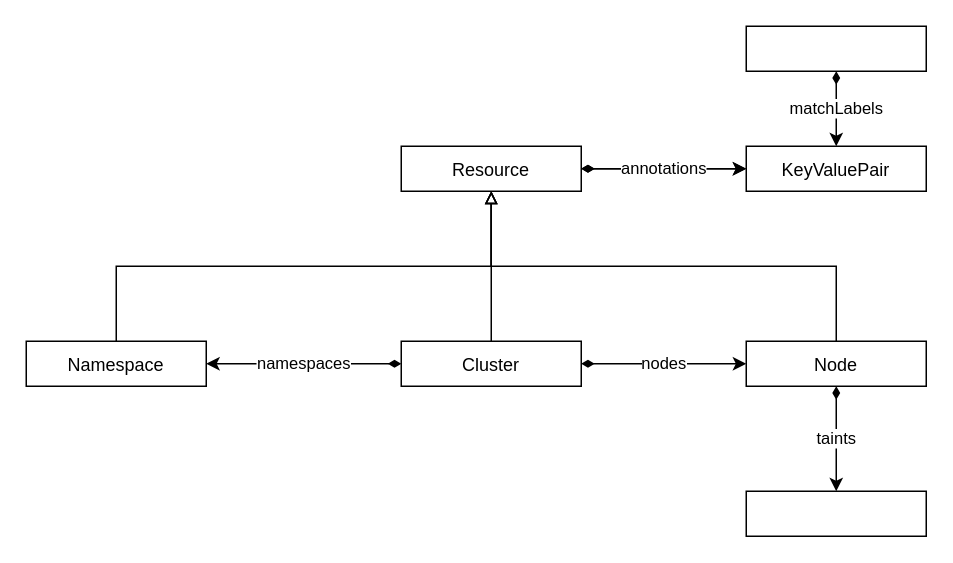
Some shapes in this 953 by 563 pixel diagram are drawn without their labels. Here are the shapes that lost their labels. From the top down, the centre of each, then its label:
[835,48]: LabelSelector
[835,513]: Taint
